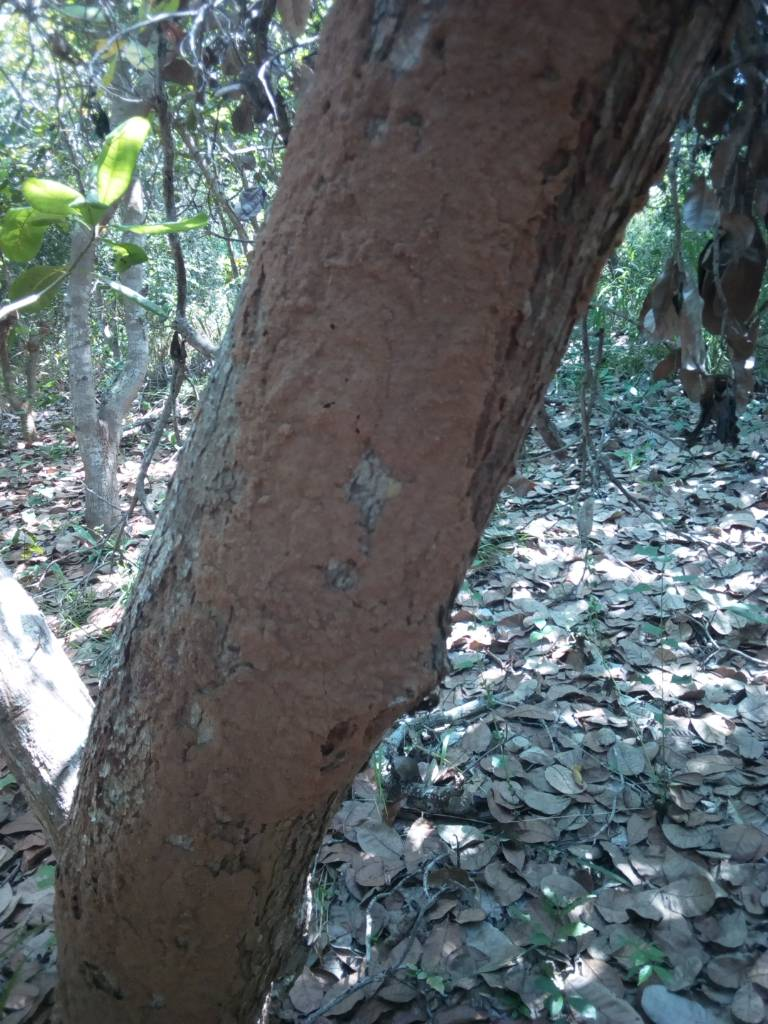Virose: (34, 7, 673, 1004)
